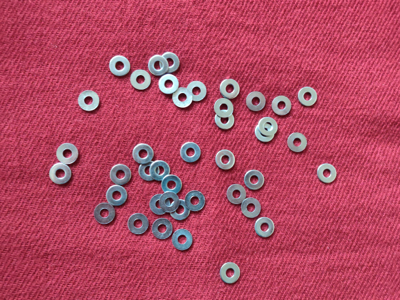circles: (253, 217, 277, 240), (219, 262, 242, 285), (240, 197, 263, 220), (105, 185, 129, 207), (127, 213, 151, 235), (108, 54, 131, 76), (77, 90, 100, 112), (56, 143, 79, 165), (49, 164, 72, 186), (109, 164, 132, 186), (132, 143, 155, 165), (130, 69, 153, 91), (185, 80, 208, 102), (138, 160, 161, 182), (213, 97, 236, 119), (218, 77, 241, 99), (214, 109, 237, 131), (271, 95, 294, 117), (296, 86, 319, 108), (257, 116, 280, 138), (254, 122, 277, 144), (316, 163, 339, 185), (214, 149, 237, 171), (243, 169, 266, 191), (225, 184, 248, 206), (183, 190, 206, 212), (149, 193, 172, 215), (151, 218, 174, 240), (171, 229, 194, 251), (93, 203, 117, 224), (147, 55, 170, 76), (158, 51, 181, 72), (158, 74, 181, 95), (171, 87, 194, 108), (149, 160, 172, 181), (179, 142, 202, 163), (244, 91, 267, 112), (286, 132, 309, 153), (161, 175, 184, 196), (158, 192, 181, 213), (168, 200, 191, 221)
